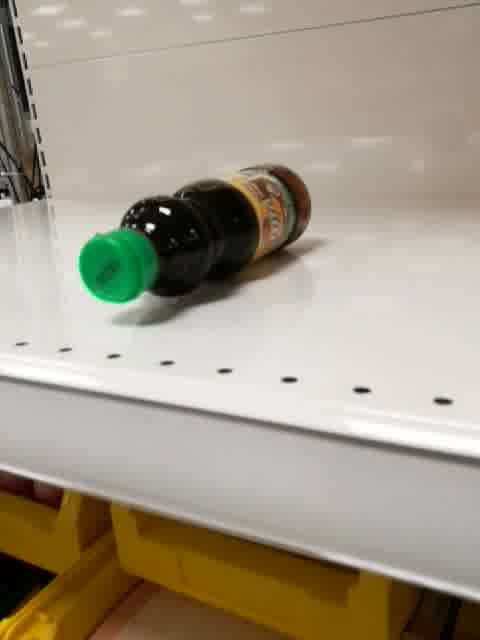cookingoil: (75, 161, 314, 305)
